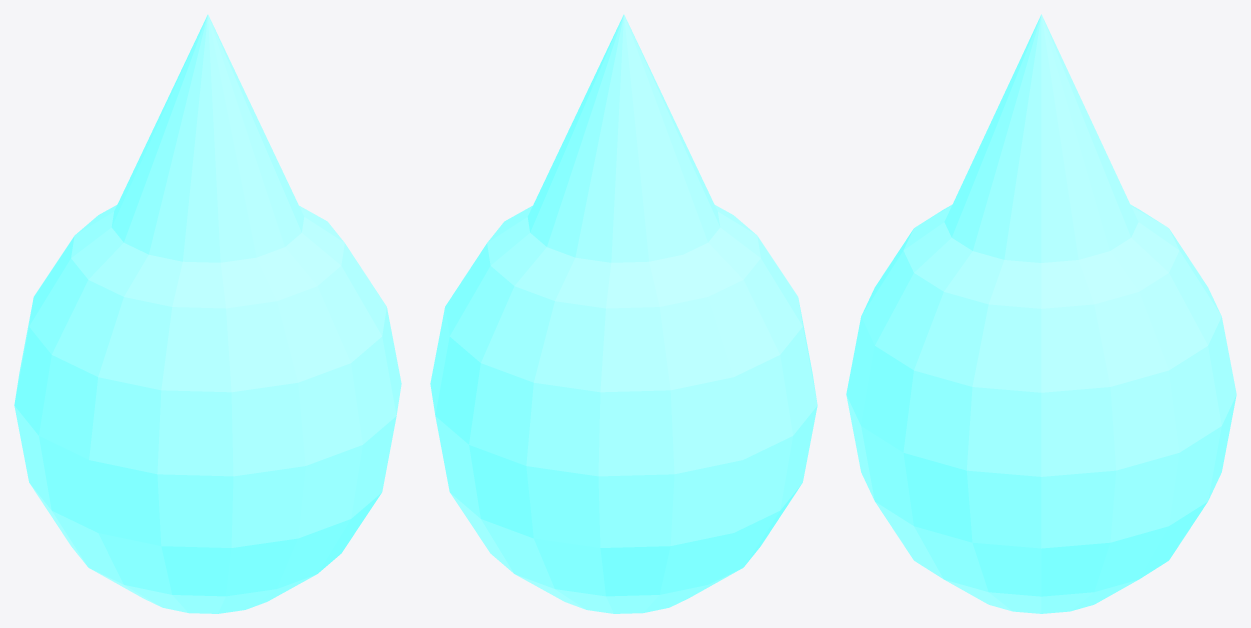
The model's file is proj_water.glb.
3 renders of one model, left to right at view 1: azimuth 30°, elevation 25°; view 2: azimuth 150°, elevation 25°; view 3: azimuth 270°, elevation 25°, orthographic.
Parts seen in each view (by area): view 1: proj_water; view 2: proj_water; view 3: proj_water.
Boxes of the visible parts, box(x1,y1,x2,y2) form: proj_water: box(14, 14, 401, 613); proj_water: box(430, 14, 817, 613); proj_water: box(846, 14, 1236, 613).
Bounding box in the file's own units: 0.4 × 0.66 × 0.4.
